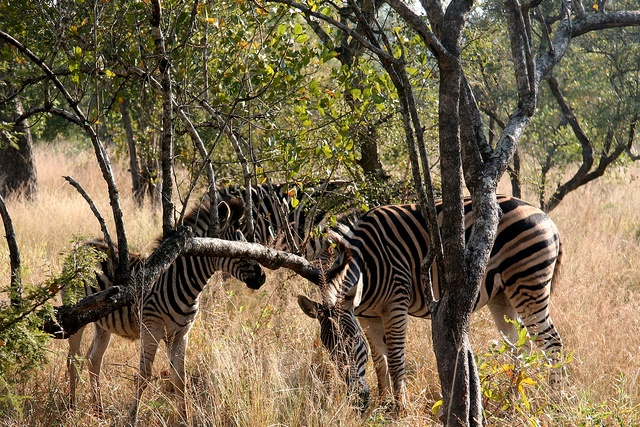zebra: (297, 195, 566, 414), (61, 195, 266, 427)
